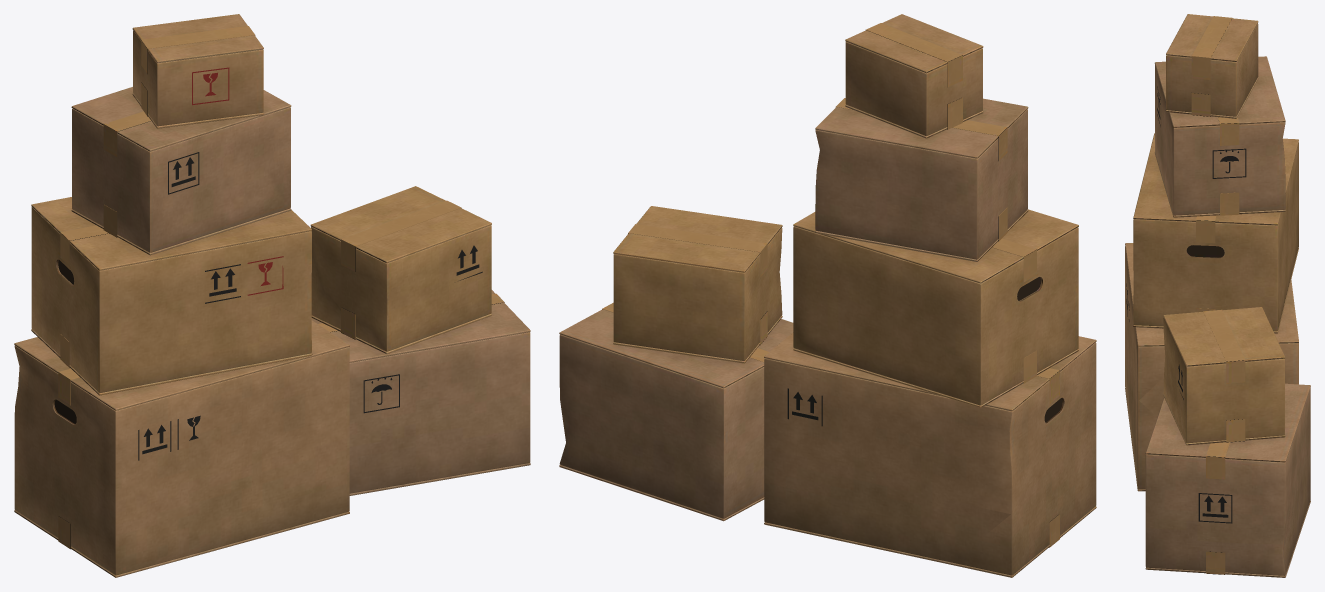
Rendered from cardboard-box-stack-leve.glb.
3 views of the same model, side by side, from view 1: azimuth 30°, elevation 25°; view 2: azimuth 150°, elevation 25°; view 3: azimuth 270°, elevation 25° (orthographic). The views are drawn at different scales.
Parts seen in each view (by area): view 1: cardboard-box-stack_body, cardboard-box-stack_box_c_print; view 2: cardboard-box-stack_body; view 3: cardboard-box-stack_body, cardboard-box-stack_box_b_print, cardboard-box-stack_box_e_print.
Part boxes in pixels (left/top/right/bottom): cardboard-box-stack_body: left=14, top=14, right=530, bottom=577; cardboard-box-stack_box_c_print: left=205, top=256, right=283, bottom=303; cardboard-box-stack_body: left=559, top=14, right=1096, bottom=577; cardboard-box-stack_body: left=1125, top=14, right=1310, bottom=577; cardboard-box-stack_box_b_print: left=1198, top=493, right=1232, bottom=523; cardboard-box-stack_box_e_print: left=1157, top=86, right=1246, bottom=178.
Bounding box in the file's own units: 1.13 × 1.12 × 0.4598.
3 materials, 1 textured.
